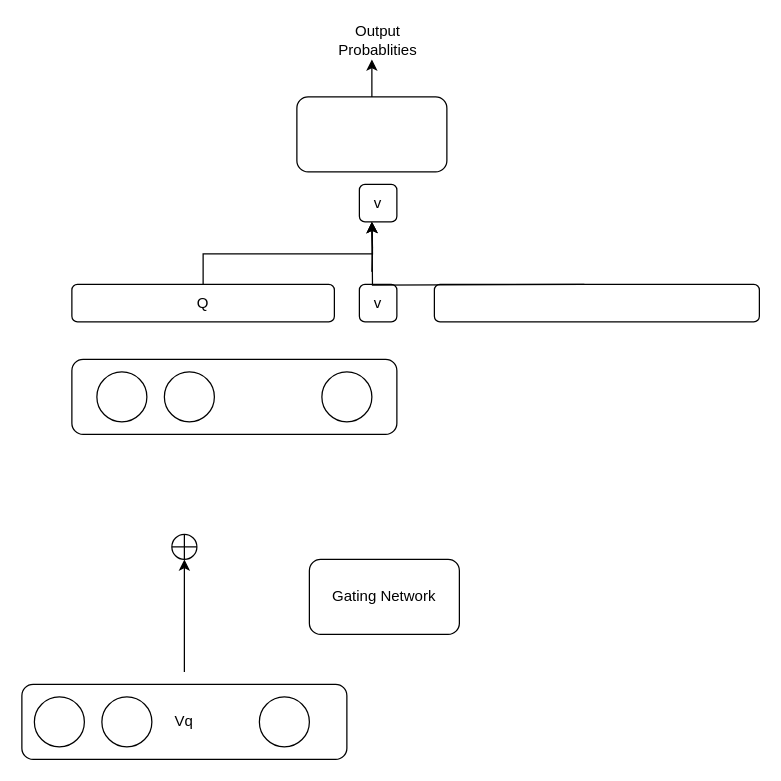
Some shapes in this 781 by 781 pixel diagram are drawn without their labels. Each missing label, with the centre of its shape:
Sigmoid: the point at 371,134
theta: the point at 596,302
